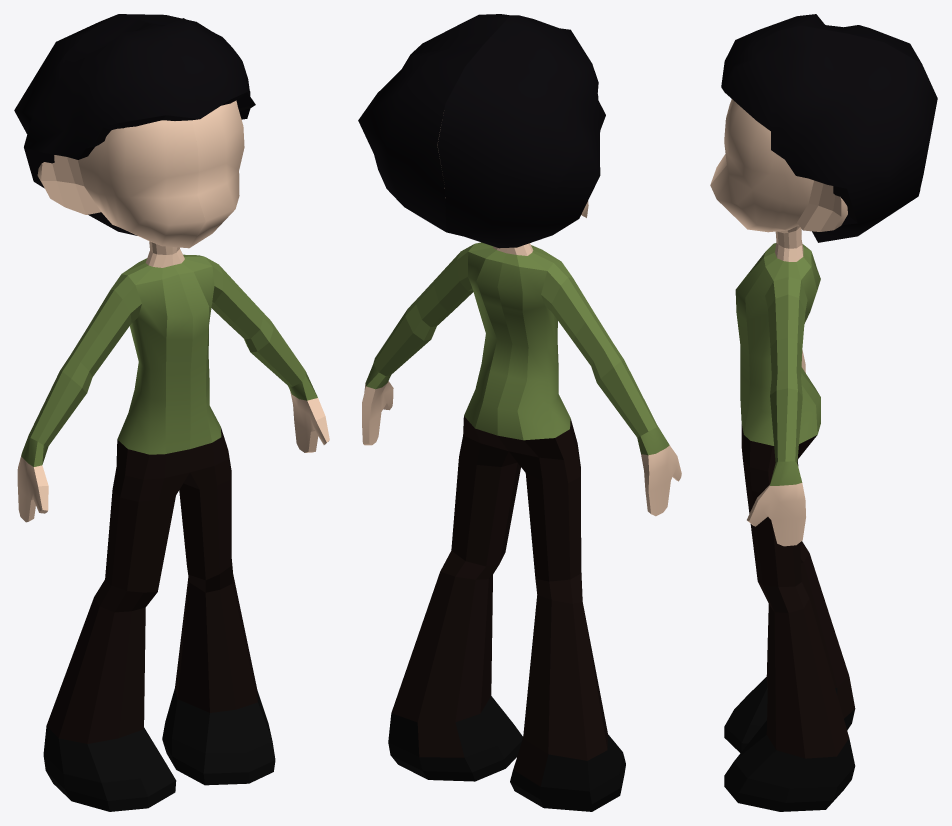
The model's file is James.fbx.
3 renders of one model, left to right at view 1: azimuth 30°, elevation 25°; view 2: azimuth 150°, elevation 25°; view 3: azimuth 270°, elevation 25°, orthographic. The views are drawn at different scales.
Parts seen in each view (by area): view 1: cuerpo, pelo; view 2: cuerpo, pelo; view 3: cuerpo, pelo.
Part boxes in pixels (x1=…): cuerpo: x1=17, y1=100, x2=329, y2=811; pelo: x1=14, y1=14, x2=255, y2=235; cuerpo: x1=362, y1=127, x2=681, y2=811; pelo: x1=358, y1=14, x2=605, y2=248; cuerpo: x1=710, y1=99, x2=855, y2=811; pelo: x1=721, y1=14, x2=937, y2=242.
Size of the model in its own units: 62.09 by 151 by 42.14.
